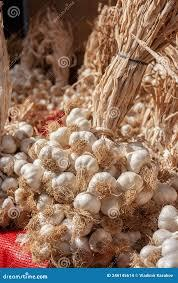garlic: (5, 109, 178, 261)
